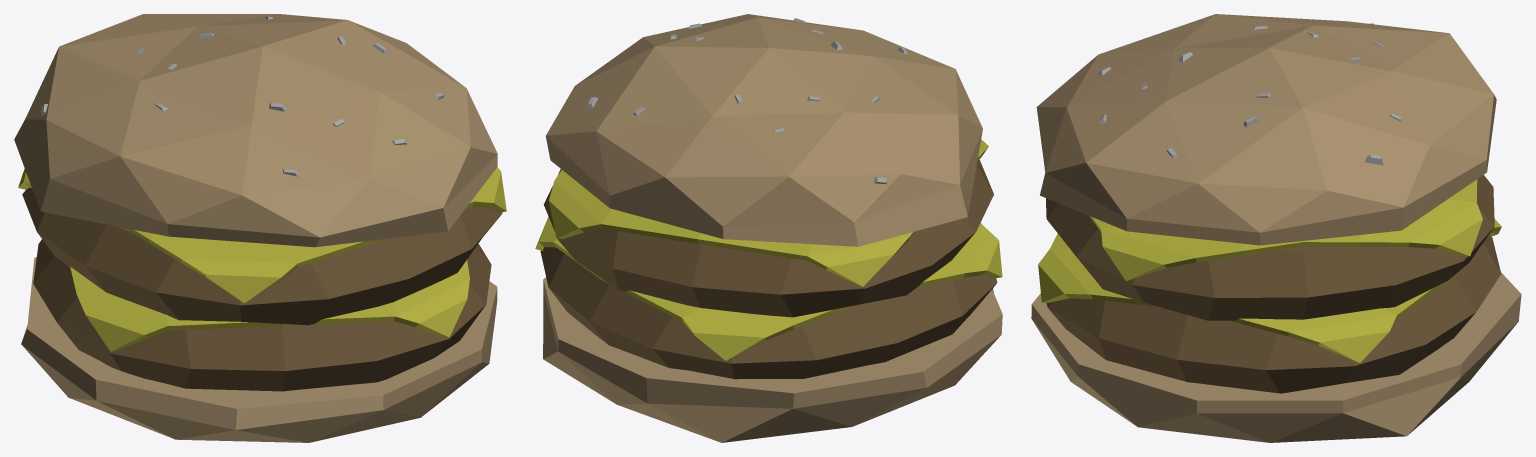
File: DoubleCheeseburger.glb
3 views of the same model, side by side, from view 1: azimuth 30°, elevation 25°; view 2: azimuth 150°, elevation 25°; view 3: azimuth 270°, elevation 25° (orthographic). The views are drawn at different scales.
Visible parts, largest first — view 1: LightYellow, Brown, Cheese, White; view 2: LightYellow, Brown, Cheese, White; view 3: LightYellow, Brown, Cheese, White.
Part boxes in pixels (x1,y1,x2,y2): LightYellow: [14, 14, 497, 442]; Brown: [22, 187, 502, 391]; Cheese: [18, 167, 506, 351]; White: [41, 16, 444, 176]; LightYellow: [543, 14, 1002, 442]; Brown: [540, 159, 997, 379]; Cheese: [535, 139, 1002, 360]; White: [587, 18, 907, 184]; LightYellow: [1031, 14, 1521, 442]; Brown: [1046, 175, 1501, 393]; Cheese: [1038, 179, 1501, 362]; White: [1098, 23, 1402, 165].
Size of the model in its own units: 1.49 by 1.2 by 1.54.
